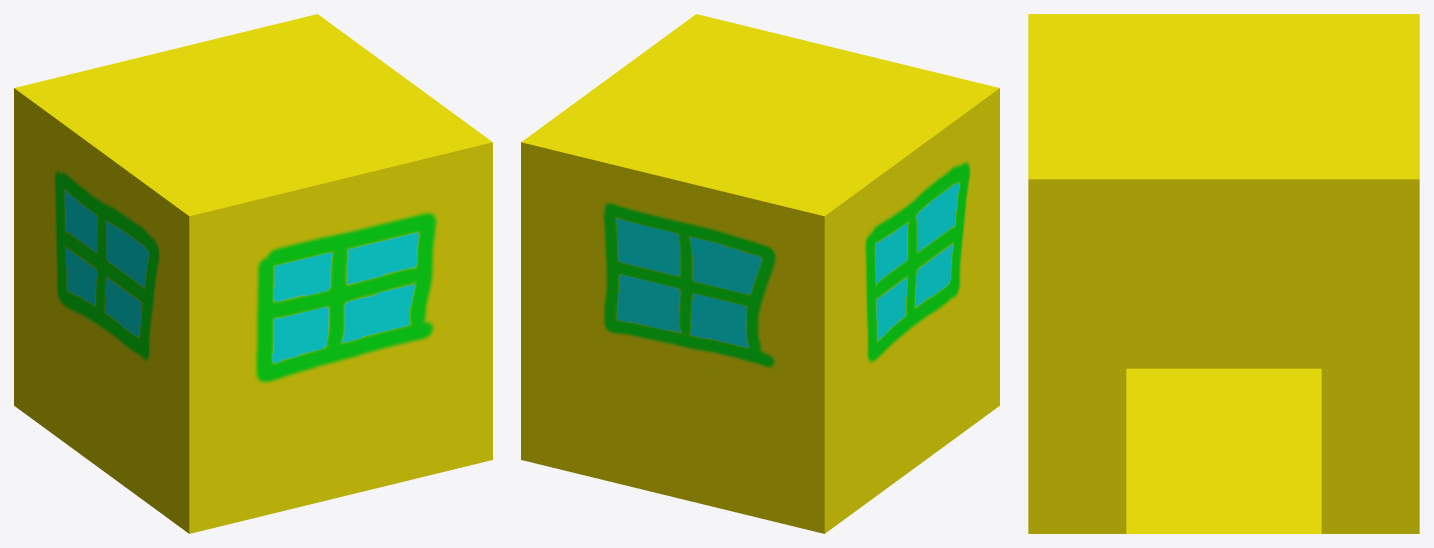
The model's file is house2.obj.
3 views of the same model, side by side, from view 1: azimuth 30°, elevation 25°; view 2: azimuth 150°, elevation 25°; view 3: azimuth 270°, elevation 25° (orthographic). The views are drawn at different scales.
Visible parts, largest first — view 1: Cube; view 2: Cube; view 3: Cube.
Boxes of the visible parts, bbox=[...] form: Cube: bbox=[14, 14, 492, 533]; Cube: bbox=[521, 14, 999, 533]; Cube: bbox=[1028, 14, 1419, 533].
Size of the model in its own units: 2 by 2 by 2.
Materials: 1 (1 with a texture image).
